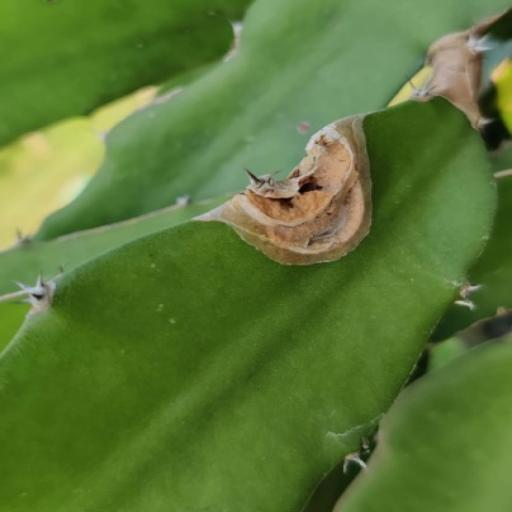stemcanker: (146, 294, 182, 334), (282, 111, 322, 141), (138, 258, 168, 278)
